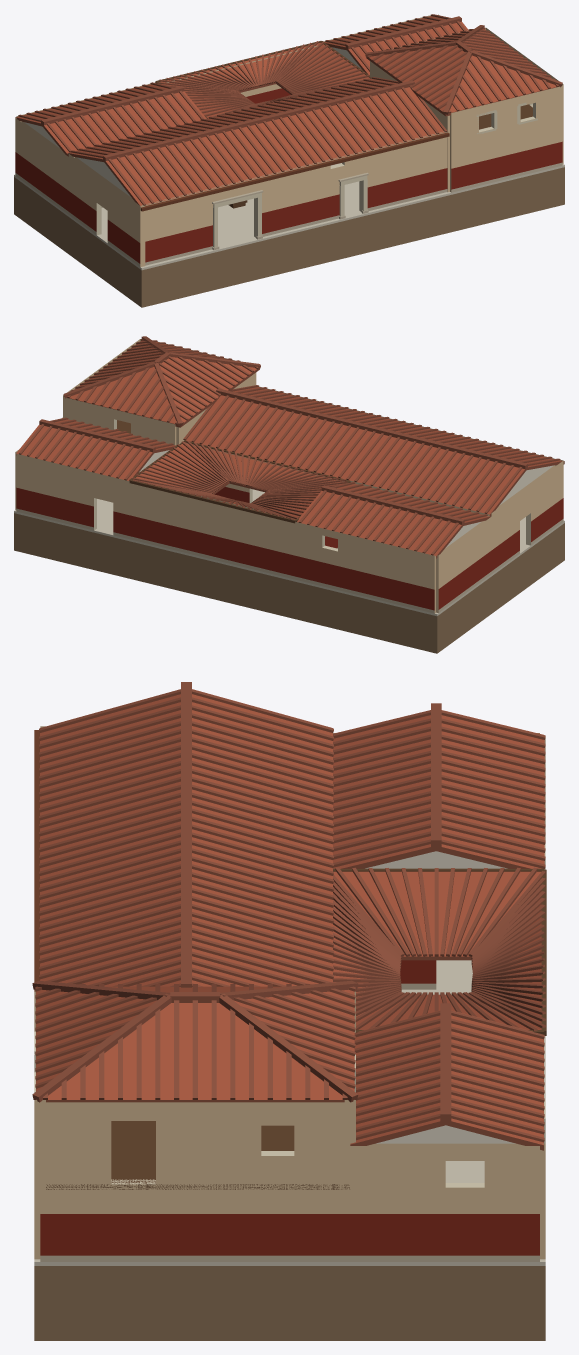
File: rome_domus_k.glb
3 views of the same model, one above another, from view 1: azimuth 30°, elevation 25°; view 2: azimuth 150°, elevation 25°; view 3: azimuth 270°, elevation 25° (orthographic). The views are drawn at different scales.
Visible parts, largest first — view 1: rome_domus_k; view 2: rome_domus_k; view 3: rome_domus_k.
Boxes of the visible parts, x1,y1,x2,y2 form: rome_domus_k: [14, 14, 564, 307]; rome_domus_k: [14, 336, 564, 653]; rome_domus_k: [32, 682, 546, 1340].
Bounding box in the file's own units: 32.5 × 10.55 × 17.1.
